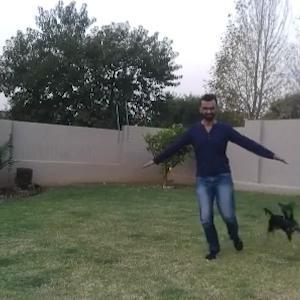land: (139, 97, 281, 254)
